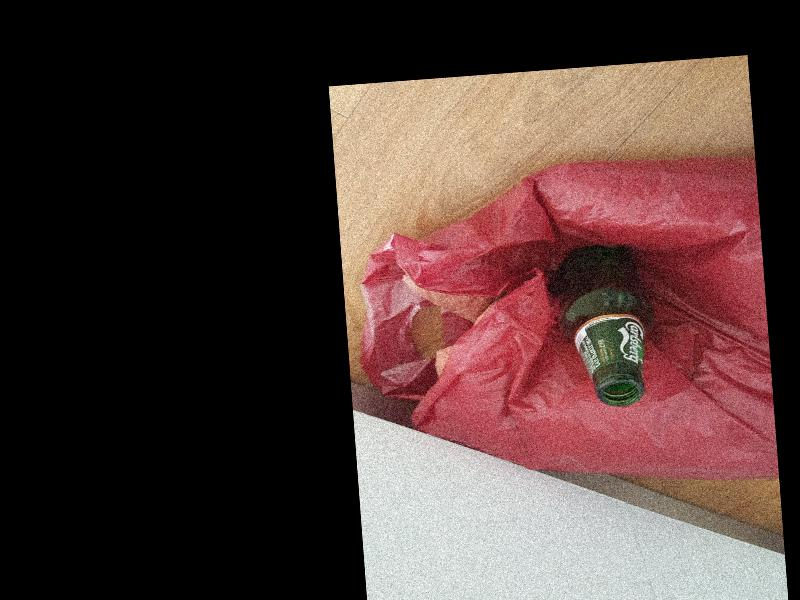Beer: (553, 240, 659, 408)
